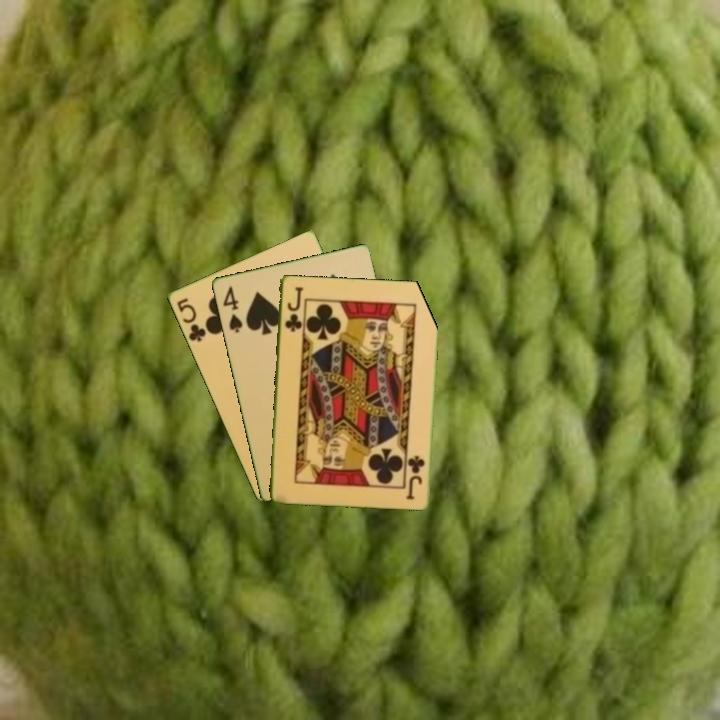4s: (219, 282, 245, 336)
5c: (173, 294, 208, 345)
Jc: (281, 283, 305, 334), (404, 452, 427, 502)
